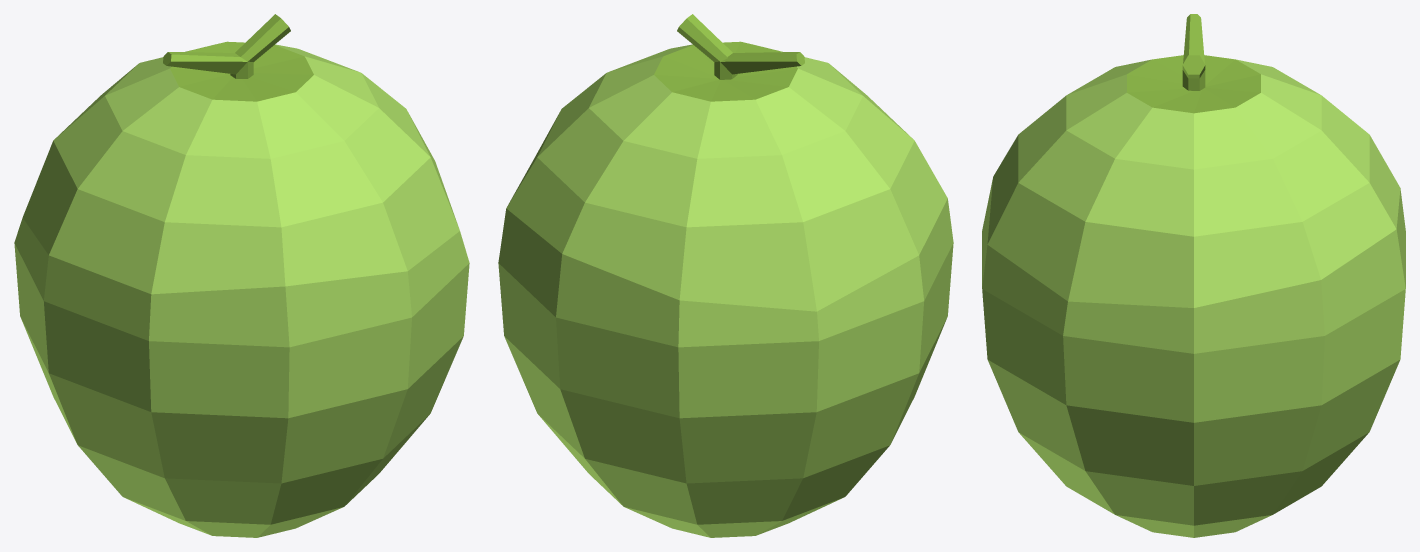
File: coconut.fbx
The picture shows the model from 3 angles, left to right: view 1: azimuth 30°, elevation 25°; view 2: azimuth 150°, elevation 25°; view 3: azimuth 270°, elevation 25°; orthographic projection. The views are drawn at different scales.
Visible parts, largest first — view 1: bottom_body, top_body, stalk2, stalk3; view 2: bottom_body, top_body, stalk2, stalk3; view 3: bottom_body, top_body, stalk2.
Boxes of the visible parts, left/top/right/bottom form: bottom_body: left=14, top=218, right=469, bottom=537; top_body: left=22, top=41, right=459, bottom=294; stalk2: left=163, top=52, right=247, bottom=74; stalk3: left=235, top=14, right=290, bottom=62; bottom_body: left=498, top=198, right=953, bottom=537; top_body: left=506, top=41, right=947, bottom=311; stalk2: left=720, top=52, right=804, bottom=74; stalk3: left=677, top=14, right=732, bottom=62; bottom_body: left=982, top=179, right=1405, bottom=537; top_body: left=987, top=55, right=1400, bottom=307; stalk2: left=1183, top=14, right=1204, bottom=63.
Size of the model in its own units: 39.03 by 46.75 by 37.12.
